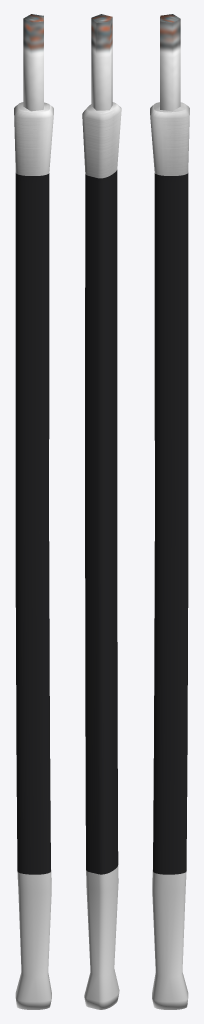
Rendered from AuthenticCigaretteHolder.fbx.
3 renders of one model, left to right at view 1: azimuth 90°, elevation 25°; view 2: azimuth 150°, elevation 25°; view 3: azimuth 270°, elevation 25°, orthographic.
Parts seen in each view (by area): view 1: Cube; view 2: Cube; view 3: Cube.
Boxes of the visible parts, x1=… form: Cube: x1=14, y1=14, x2=53, y2=1009; Cube: x1=82, y1=14, x2=121, y2=1009; Cube: x1=150, y1=14, x2=189, y2=1009.
Size of the model in its own units: 0.00851 by 0.2841 by 0.0104.
